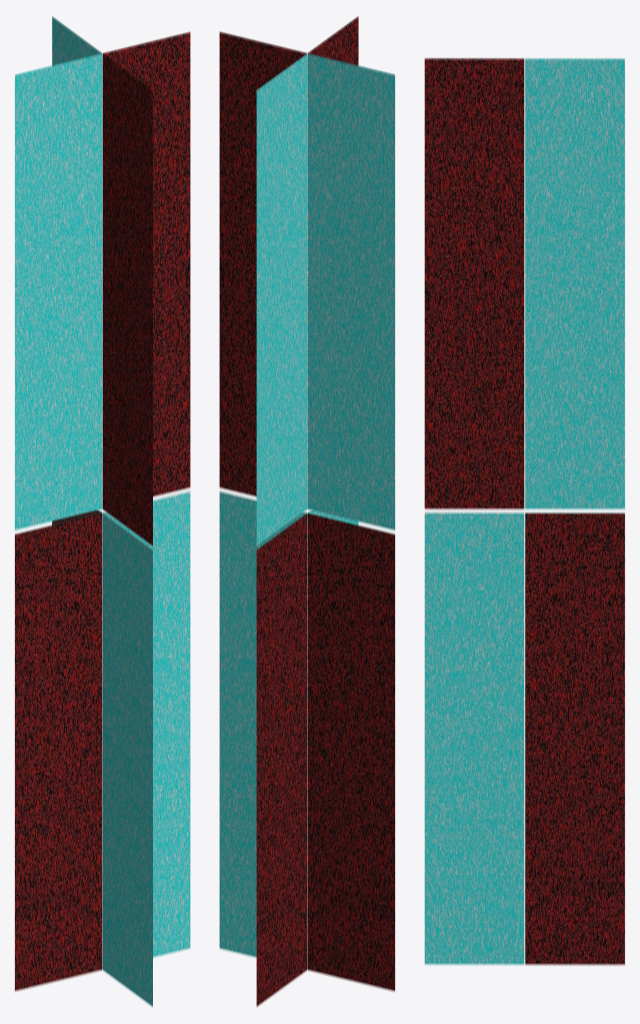
3 views of the same model, side by side, from view 1: azimuth 30°, elevation 25°; view 2: azimuth 150°, elevation 25°; view 3: azimuth 270°, elevation 25° (orthographic).
Parts seen in each view (by area): view 1: SM_VFX_HundredUnitCruciform_Vertical_SubD_LOD0; view 2: SM_VFX_HundredUnitCruciform_Vertical_SubD_LOD0; view 3: SM_VFX_HundredUnitCruciform_Vertical_SubD_LOD0.
Boxes of the visible parts, x1=… form: SM_VFX_HundredUnitCruciform_Vertical_SubD_LOD0: x1=15, y1=16, x2=190, y2=1007; SM_VFX_HundredUnitCruciform_Vertical_SubD_LOD0: x1=219, y1=16, x2=395, y2=1007; SM_VFX_HundredUnitCruciform_Vertical_SubD_LOD0: x1=424, y1=58, x2=624, y2=965.
Bounding box in the file's own units: 0.2 × 0.9982 × 0.2.
1 material, 1 textured.
